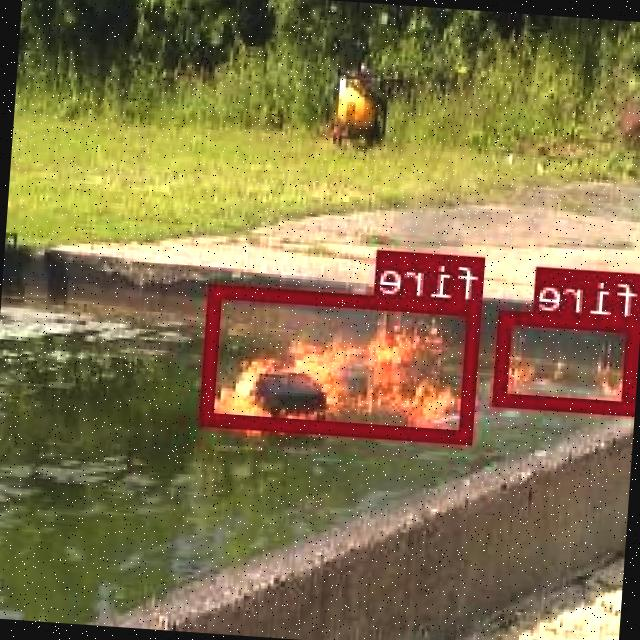fire: (201, 282, 483, 441), (498, 310, 640, 411)
